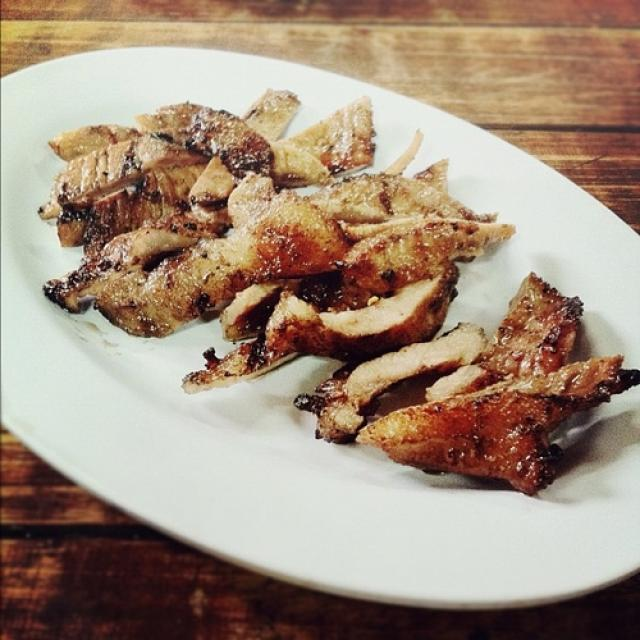猪肉菜式: (26, 50, 608, 604)
